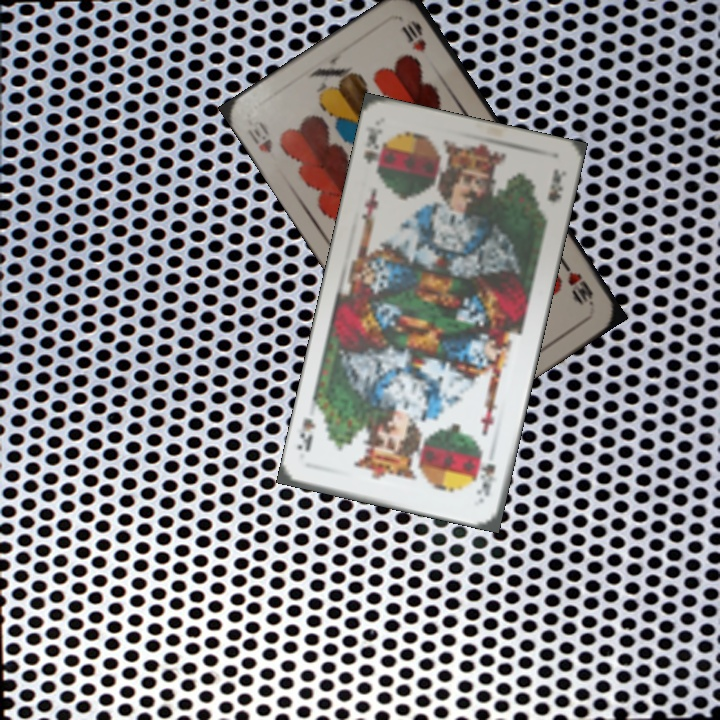H10: (558, 257, 596, 309), (243, 116, 275, 156)
SK: (360, 128, 388, 177), (472, 459, 499, 499)
